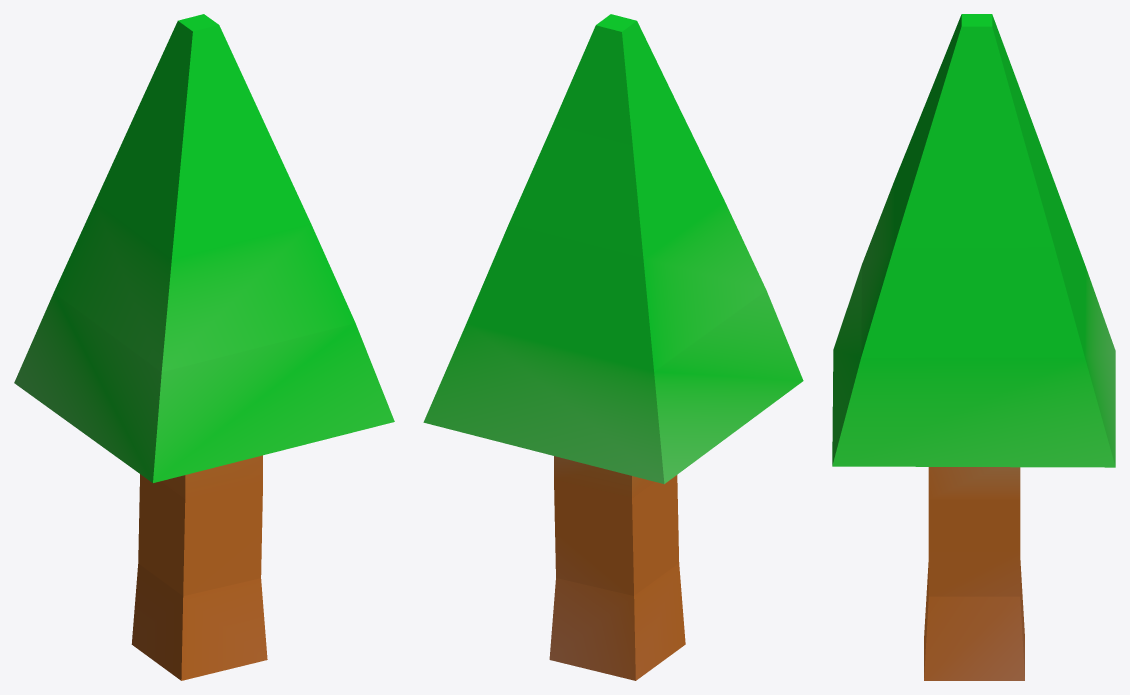
Rendered from smallTree.fbx.
3 views of the same model, side by side, from view 1: azimuth 30°, elevation 25°; view 2: azimuth 150°, elevation 25°; view 3: azimuth 270°, elevation 25° (orthographic).
Parts seen in each view (by area): view 1: smallTree; view 2: smallTree; view 3: smallTree.
Part boxes in pixels (x1,y1,x2,y2): smallTree: (14, 14, 394, 680); smallTree: (423, 14, 803, 680); smallTree: (832, 14, 1115, 680).
Bounding box in the file's own units: 11.79 × 29.34 × 11.79.
